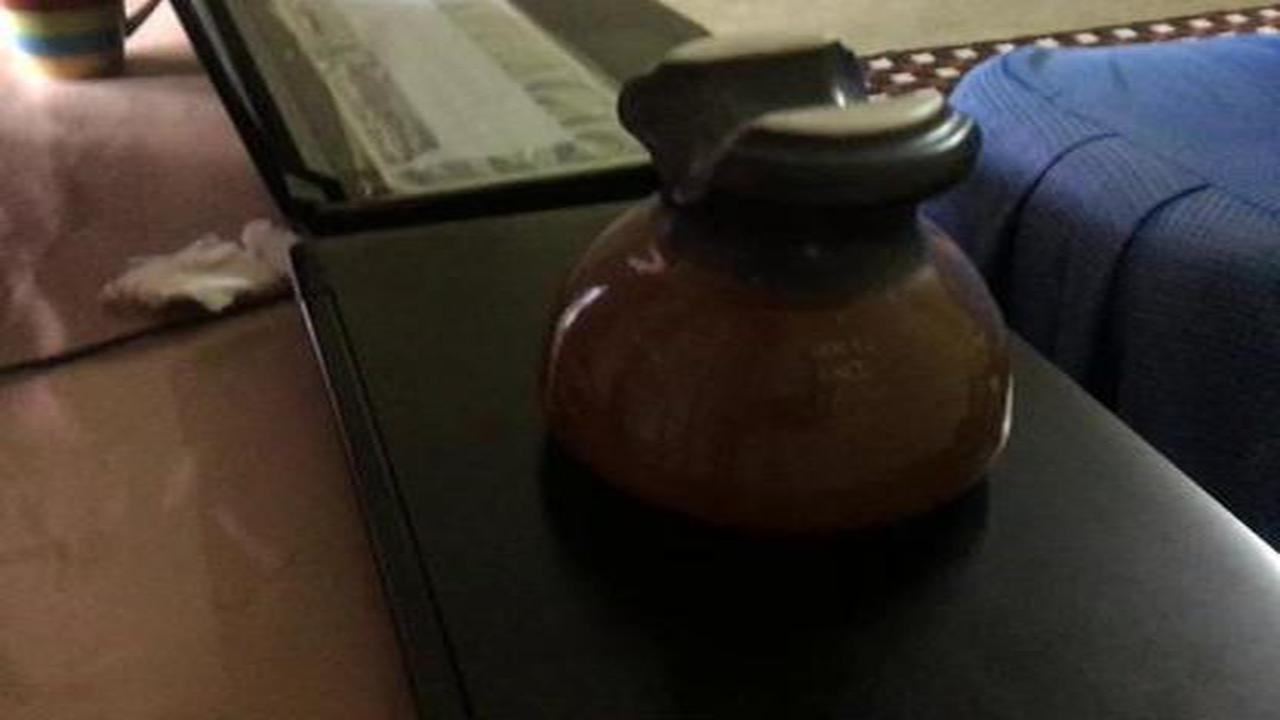insulator_pin: (527, 30, 1022, 568)
